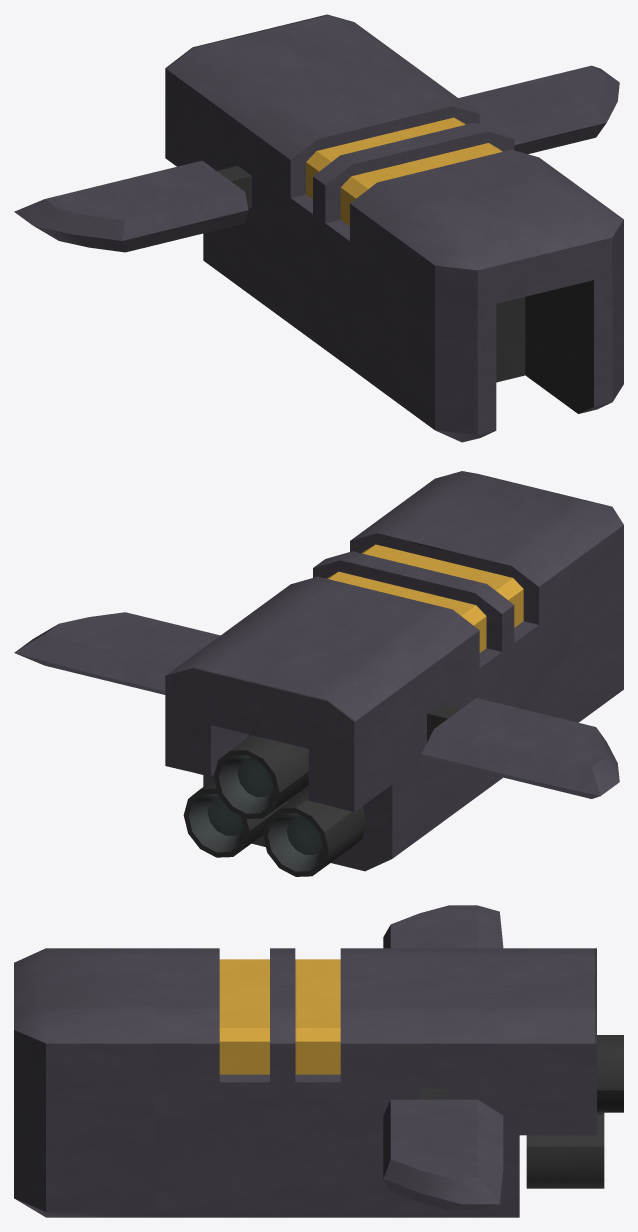
The model's file is Big_ship.fbx.
3 views of the same model, one above another, from view 1: azimuth 30°, elevation 25°; view 2: azimuth 150°, elevation 25°; view 3: azimuth 270°, elevation 25° (orthographic). The views are drawn at different scales.
Parts seen in each view (by area): view 1: Cube; view 2: Cube; view 3: Cube.
Part boxes in pixels (x1=…): Cube: x1=14, y1=14, x2=623, y2=442; Cube: x1=14, y1=471, x2=623, y2=876; Cube: x1=14, y1=905, x2=623, y2=1217.
Size of the model in its own units: 825 by 266 by 727.
